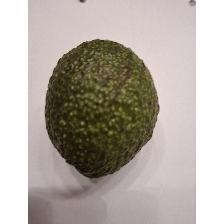Avocado: (42, 34, 164, 180)
